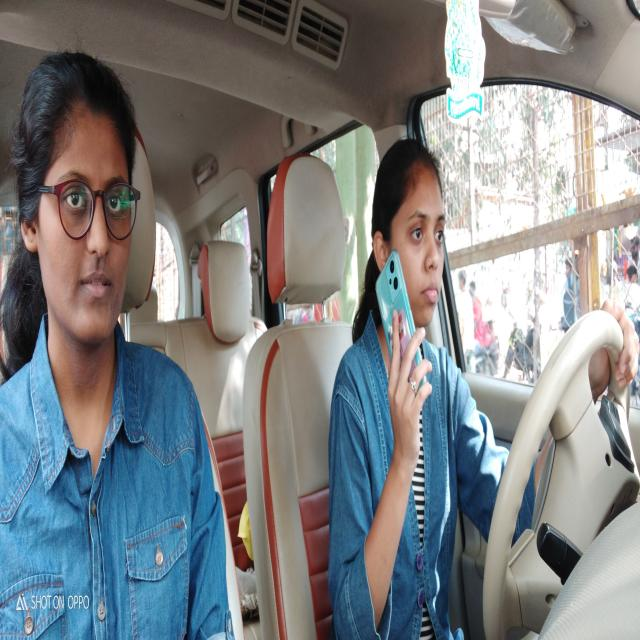mobile: (367, 251, 417, 372)
person: (8, 52, 148, 372), (350, 126, 462, 346)
